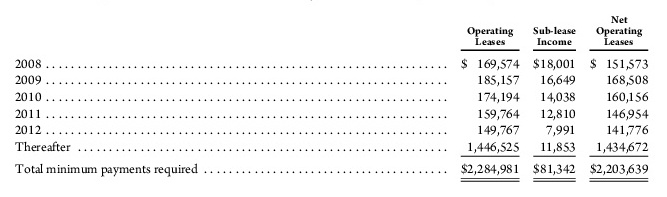table: (0, 0, 667, 197)
